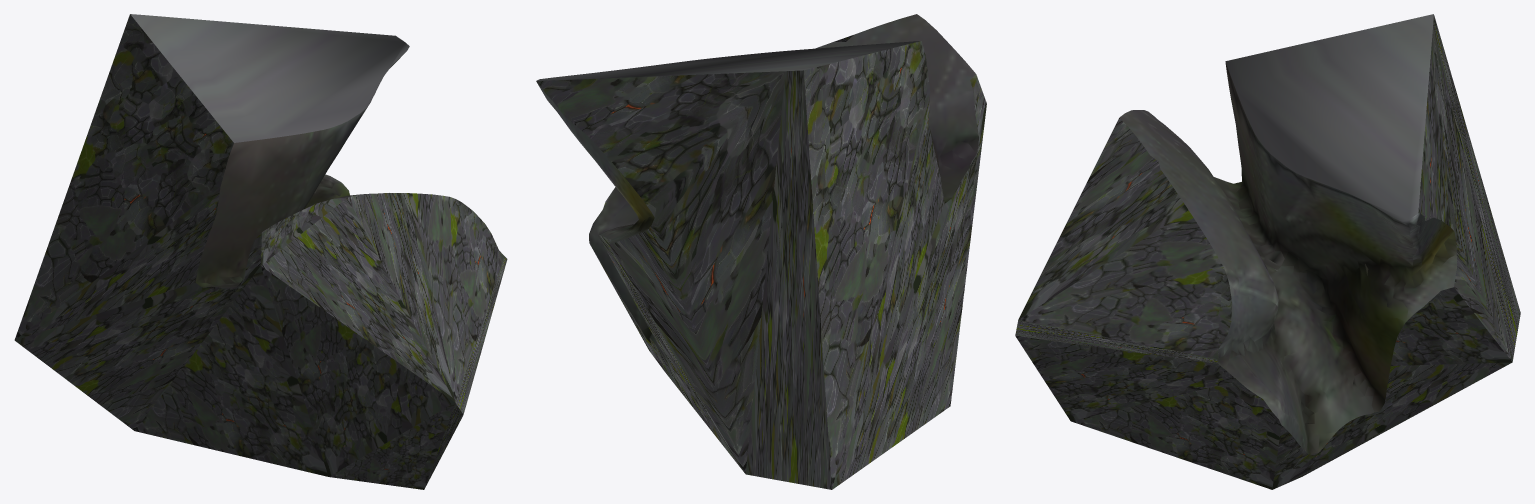
The model's file is Frag_04.gltf.
3 renders of one model, left to right at view 1: azimuth 30°, elevation 25°; view 2: azimuth 150°, elevation 25°; view 3: azimuth 270°, elevation 25°, orthographic. The views are drawn at different scales.
Parts seen in each view (by area): view 1: Frag_04; view 2: Frag_04; view 3: Frag_04.
Part boxes in pixels (box(x1,y1,x2,y2)): Frag_04: box(14, 14, 507, 489); Frag_04: box(536, 14, 986, 489); Frag_04: box(1015, 14, 1520, 489).
Bounding box in the file's own units: 0.2901 × 0.299 × 0.3714.
1 material, 1 textured.
